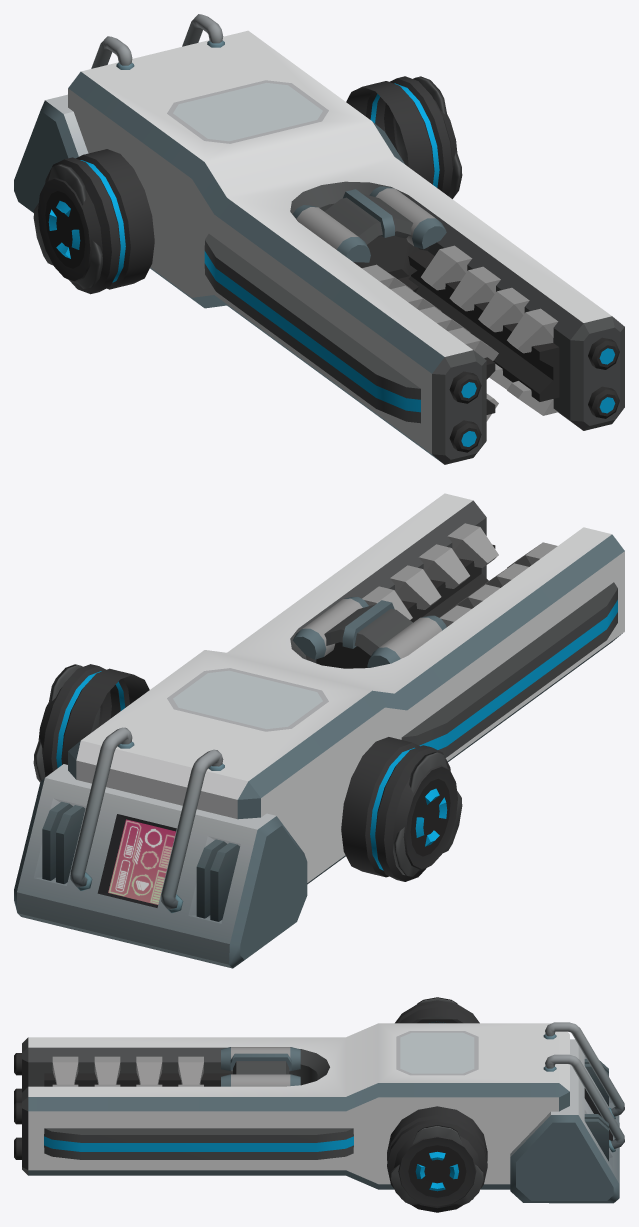
Rendered from Turret_004_Gun_01.fbx.
The picture shows the model from 3 angles, top to bottom: view 1: azimuth 30°, elevation 25°; view 2: azimuth 150°, elevation 25°; view 3: azimuth 270°, elevation 25°; orthographic projection. The views are drawn at different scales.
Parts seen in each view (by area): view 1: Turret_004_Gun_01; view 2: Turret_004_Gun_01; view 3: Turret_004_Gun_01.
Boxes of the visible parts, x1,y1,x2,y2 form: Turret_004_Gun_01: (14,14,624,464); Turret_004_Gun_01: (14,493,624,968); Turret_004_Gun_01: (14,997,624,1212).
Bounding box in the file's own units: 150 × 291 × 66.77.
